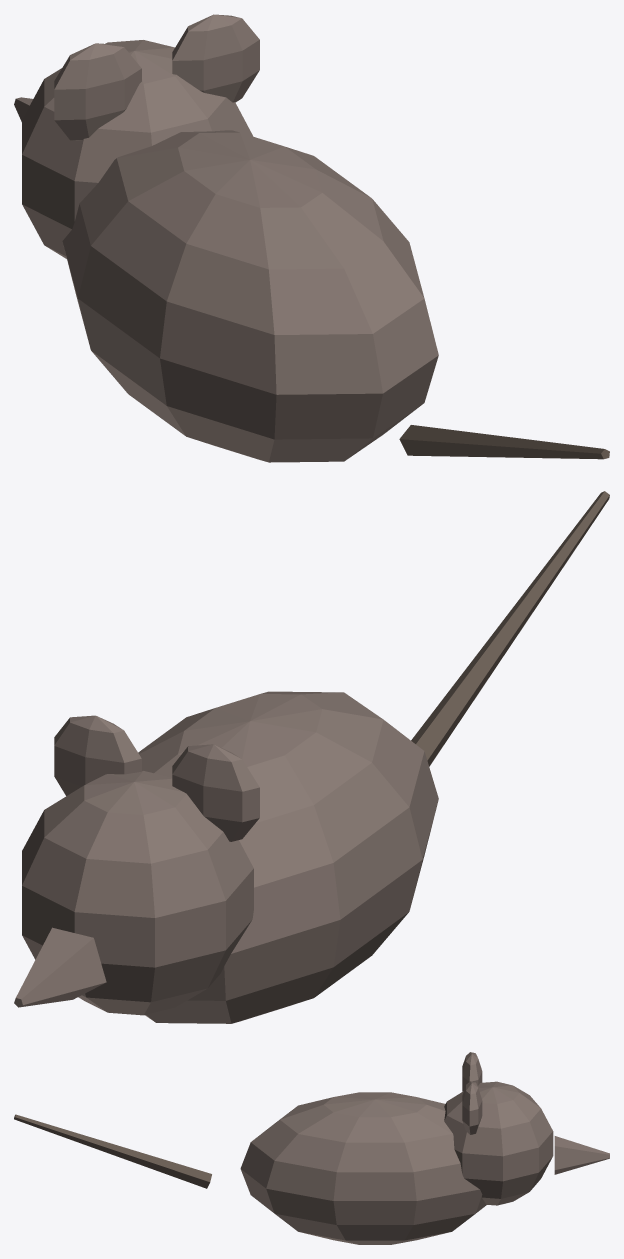
The model's file is fauna_mammal.glb.
3 renders of one model, top to bottom at view 1: azimuth 30°, elevation 25°; view 2: azimuth 150°, elevation 25°; view 3: azimuth 270°, elevation 25°, orthographic. The views are drawn at different scales.
Parts seen in each view (by area): view 1: Body, Head, EarL, EarR, Tail; view 2: Body, Head, Tail, EarL, EarR, Nose; view 3: Body, Head, Tail, Nose, EarR, EarL.
Boxes of the visible parts, <box> form: Body: <box>62,130,438,462</box>; Head: <box>22,40,253,258</box>; EarL: <box>54,43,141,140</box>; EarR: <box>172,14,259,102</box>; Tail: <box>399,425,609,459</box>; Body: <box>138,691,438,1023</box>; Head: <box>22,771,253,1015</box>; Tail: <box>411,491,609,766</box>; EarL: <box>172,744,259,841</box>; EarR: <box>54,715,141,795</box>; Nose: <box>14,927,106,1007</box>; Body: <box>240,1092,486,1244</box>; Head: <box>444,1081,553,1205</box>; Tail: <box>14,1114,211,1188</box>; Nose: <box>554,1136,609,1174</box>; EarR: <box>462,1081,482,1134</box>; EarL: <box>462,1052,482,1091</box>.
Bounding box in the file's own units: 0.2225 × 0.2705 × 0.8629.
